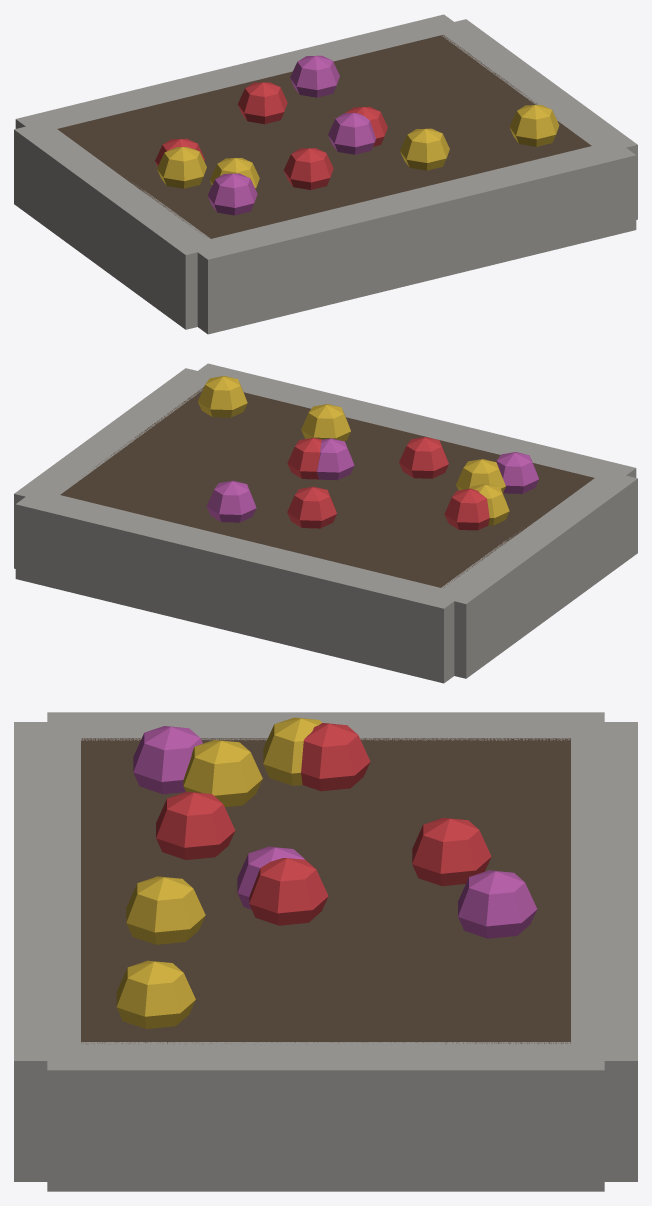
The model's file is flower_bed.glb.
3 renders of one model, top to bottom at view 1: azimuth 30°, elevation 25°; view 2: azimuth 150°, elevation 25°; view 3: azimuth 270°, elevation 25°, orthographic. The views are drawn at different scales.
Parts seen in each view (by area): view 1: flower_bed; view 2: flower_bed; view 3: flower_bed.
Part boxes in pixels (x1,y1,x2,y2): flower_bed: (14, 14, 637, 334); flower_bed: (14, 363, 637, 683); flower_bed: (14, 712, 637, 1191).
Size of the model in its own units: 1.52 by 0.345 by 1.12.
